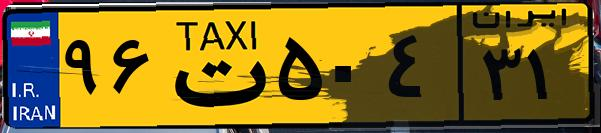0: (330, 28, 385, 110)
1: (525, 38, 570, 115)
3: (475, 38, 525, 113)
4: (385, 28, 445, 110)
5: (270, 28, 330, 110)
6: (110, 28, 158, 98)
9: (57, 26, 110, 100)
ت: (158, 12, 270, 120)
